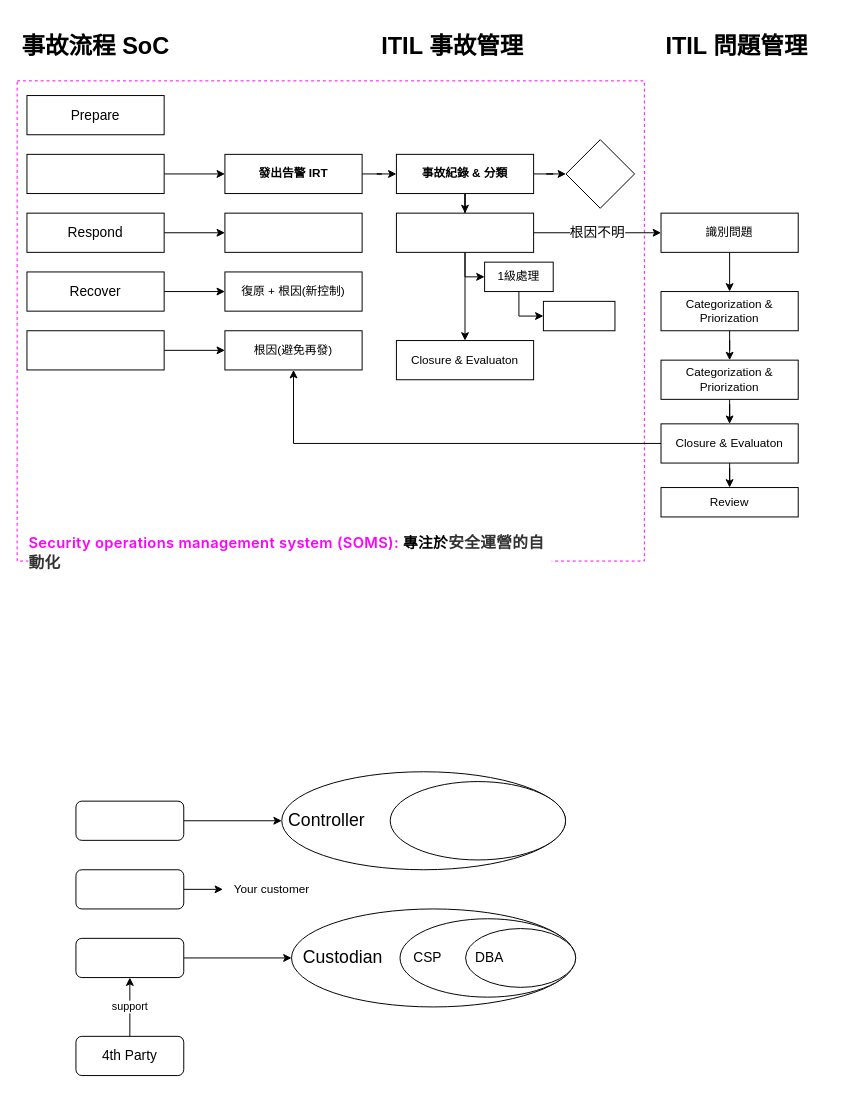
Some shapes in this 855 by 1093 pixel diagram are drawn without their labels. Here are the shapes that lost their labels. From the top down, the box of each, then its label:
(26, 153, 164, 194): Detect
(565, 139, 635, 208): Escalation
(224, 212, 362, 252): 發出通知 利害相關者
(395, 212, 534, 252): Handling of incidents
(542, 300, 615, 331): 2級處理
(26, 330, 164, 370): Post-incident
(75, 800, 184, 840): 1st Party
(389, 781, 566, 860): CSC
(75, 869, 184, 909): 2nd Party
(75, 937, 184, 978): 3rd Party
